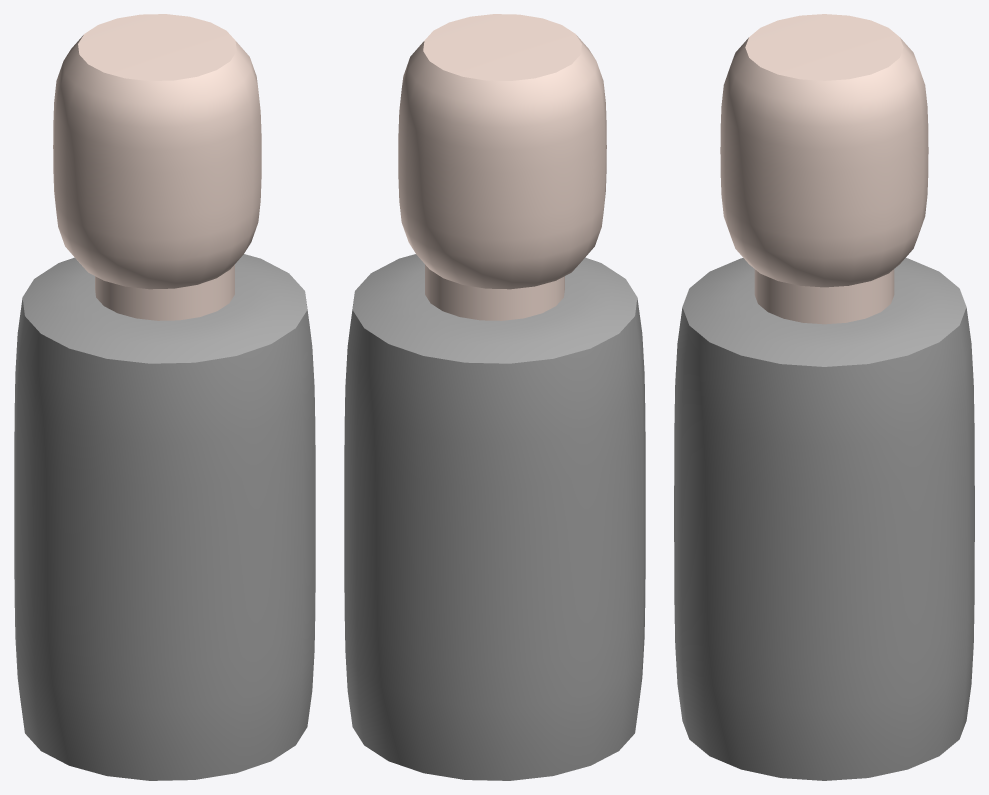
The model's file is hair6.fbx.
3 views of the same model, side by side, from view 1: azimuth 30°, elevation 25°; view 2: azimuth 150°, elevation 25°; view 3: azimuth 270°, elevation 25° (orthographic).
Parts seen in each view (by area): view 1: pCylinder2, pCylinder1, pCylinder3; view 2: pCylinder2, pCylinder1, pCylinder3; view 3: pCylinder2, pCylinder1, pCylinder3.
Part boxes in pixels (left/top/right/bottom): pCylinder2: left=14, top=254, right=315, bottom=780; pCylinder1: left=53, top=14, right=261, bottom=289; pCylinder3: left=95, top=264, right=234, bottom=320; pCylinder2: left=344, top=254, right=645, bottom=780; pCylinder1: left=398, top=14, right=606, bottom=289; pCylinder3: left=425, top=264, right=564, bottom=320; pCylinder2: left=674, top=258, right=974, bottom=780; pCylinder1: left=720, top=14, right=928, bottom=287; pCylinder3: left=754, top=269, right=894, bottom=324.
Size of the model in its own units: 2.03 by 5.09 by 2.03.
